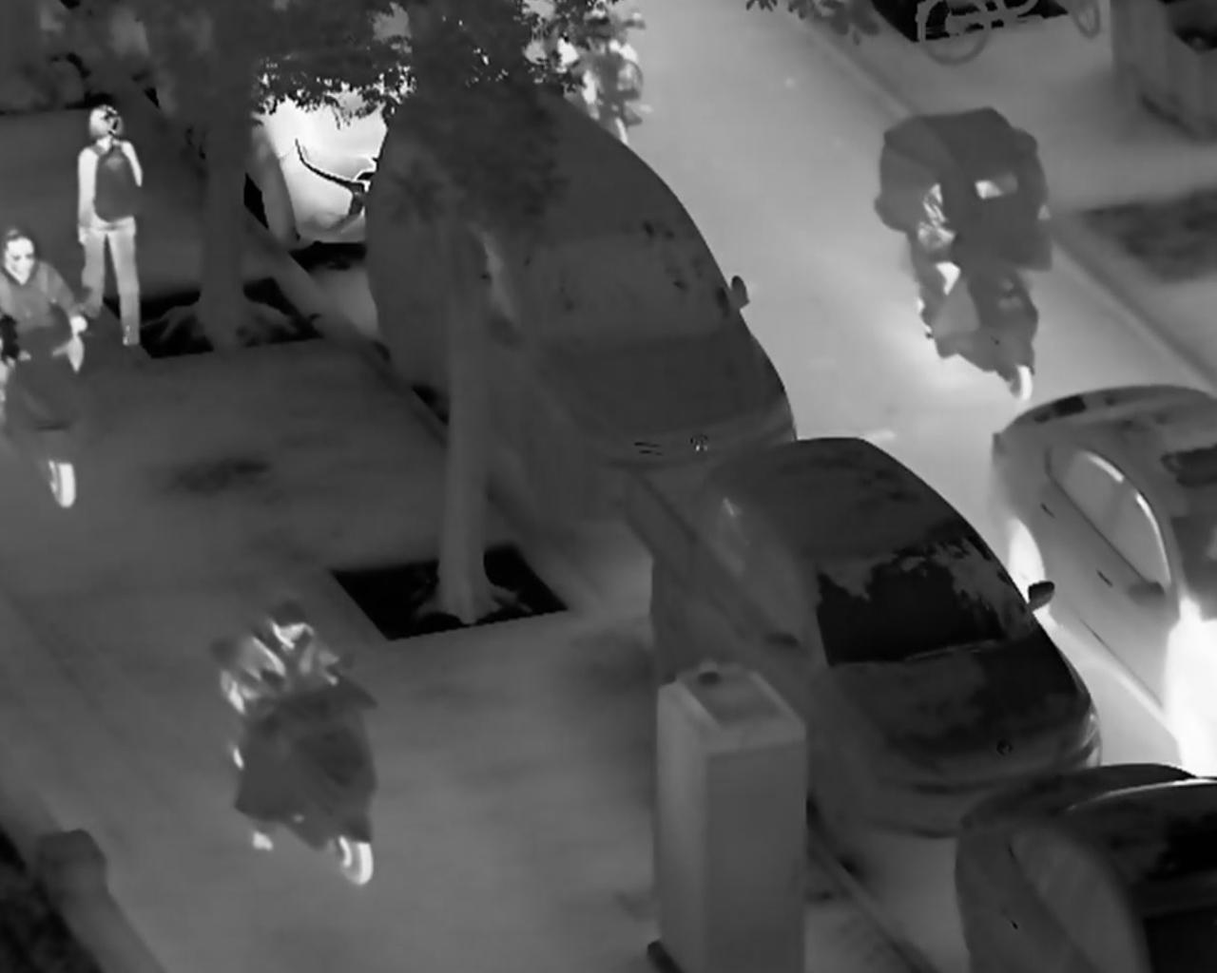person: (214, 601, 348, 854), (70, 101, 146, 349)
